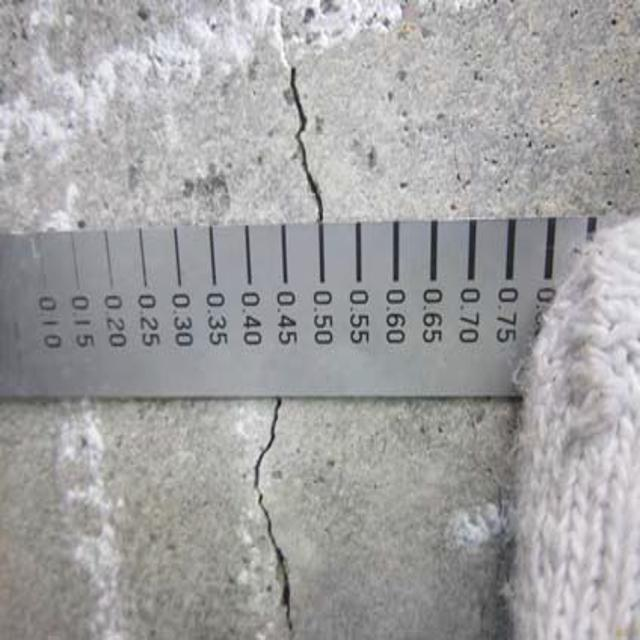crack: (224, 400, 316, 639), (266, 27, 336, 227)
